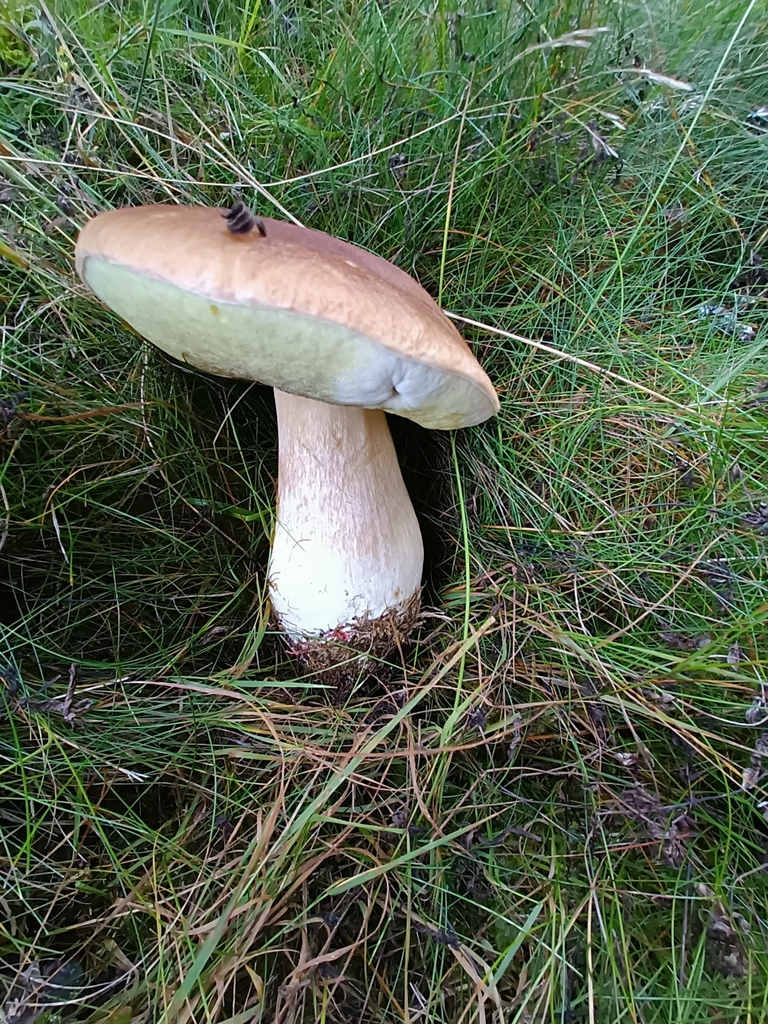cap: (78, 205, 497, 425)
stem: (269, 391, 423, 653)
underside: (90, 257, 492, 428)
